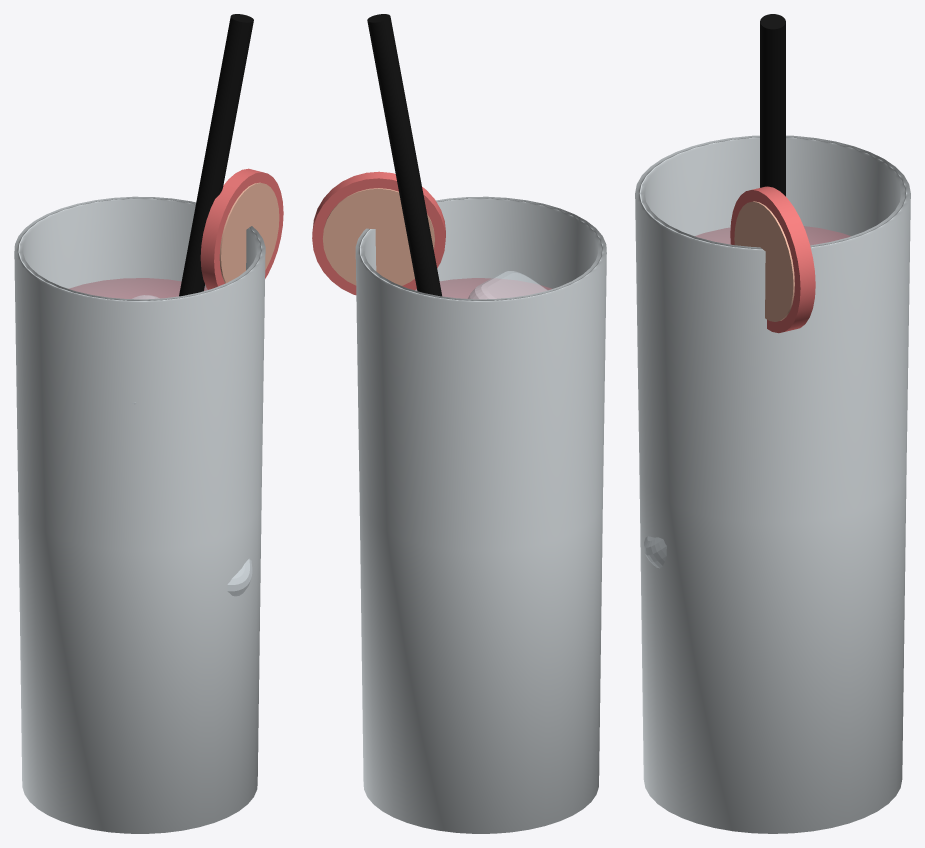
Rendered from cocktail-paloma.glb.
3 views of the same model, side by side, from view 1: azimuth 30°, elevation 25°; view 2: azimuth 150°, elevation 25°; view 3: azimuth 270°, elevation 25° (orthographic). The views are drawn at different scales.
Size of the model in its own units: 0.0779 by 0.2086 by 0.064.
